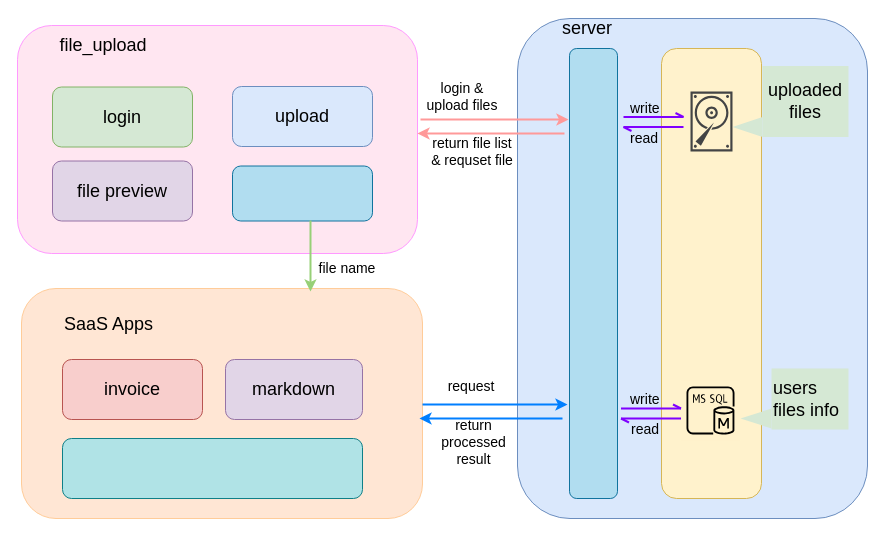
The diagram is 885 pixels wide and 536 high, and some of its shapes have lost their labels. The centre of each missing label's shape, as x and y in pixels:
flask: the point at 593,273
launch application: the point at 302,193
translate: the point at 212,468
